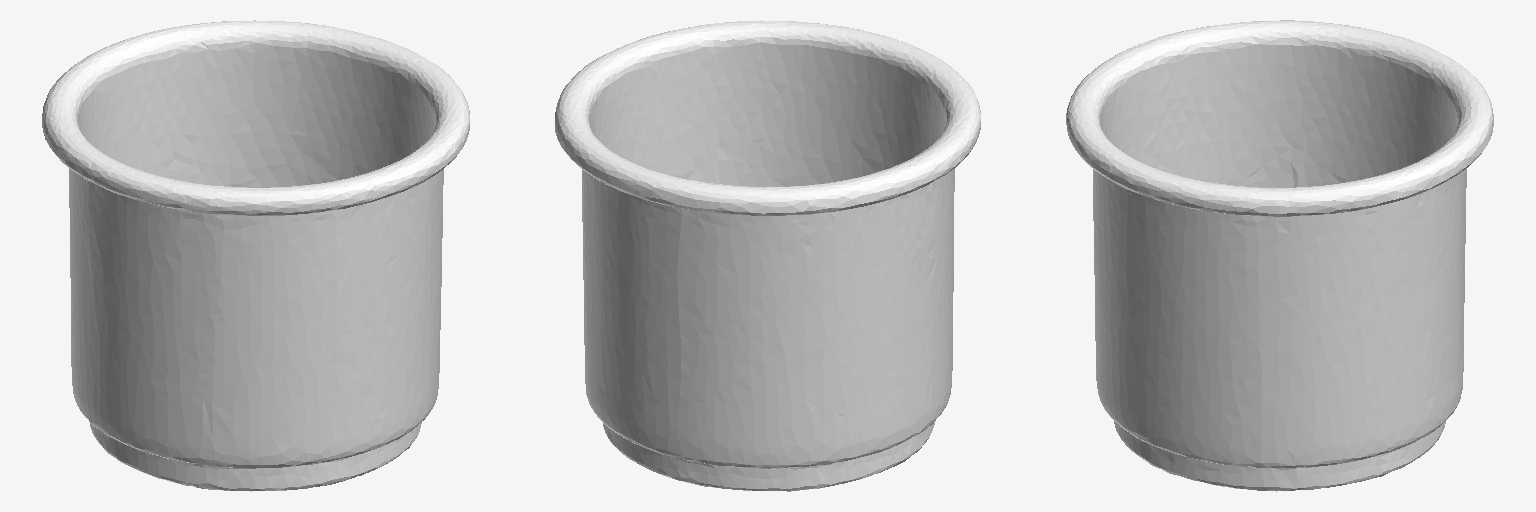
The robot description file, URDF, robot "073-f_lego_duplo":
<robot name="073-f_lego_duplo">
	<link name="_name">
		<visual>
			<origin xyz="0.28303653148494834 0.6646108978076668 -0.23607205859592442" rpy="0 0 0" />
			<geometry>
				<mesh filename="073-f_lego_duplo/google_16k/textured.obj" scale="10 10 10" />
			</geometry>
			<material name="texture">
				<color rgba="1.0 1.0 1.0 1.0" />
			</material>
		</visual>
		<collision>
			<geometry>
				<mesh filename="073-f_lego_duplo/google_16k/textured_vhacd.obj" scale="10 10 10" />
			</geometry>
		<origin xyz="0.28303653148494834 0.6646108978076668 -0.23607205859592442" rpy="0 0 0" /></collision>
		<inertial>
			<mass value="1.0" />
			<inertia ixx="1.0" ixy="0.0" ixz="0.0" iyy="1.0" iyz="0.0" izz="1.0" />
		</inertial>
	</link>
</robot>

--- Facts derived from the render (not from the file) ---
3 views of the same robot in one strip: view 1: azimuth 30°, elevation 25°; view 2: azimuth 150°, elevation 25°; view 3: azimuth 270°, elevation 25° (orthographic).
Model 073-f_lego_duplo with 1 links and 0 joints (none), rooted at _name, posed all joints at 0.
Visible links, largest first — view 1: _name; view 2: _name; view 3: _name.
Link boxes in pixels (left/top/right/bottom): _name: left=42, top=20, right=469, bottom=491; _name: left=555, top=20, right=980, bottom=491; _name: left=1066, top=20, right=1493, bottom=491.
Bounding box of the posed robot: 0.915 × 0.9162 × 0.7506 m (x, y, z).
Meshes: 1 distinct files referenced, 1 mesh visuals loaded (1 OBJ).